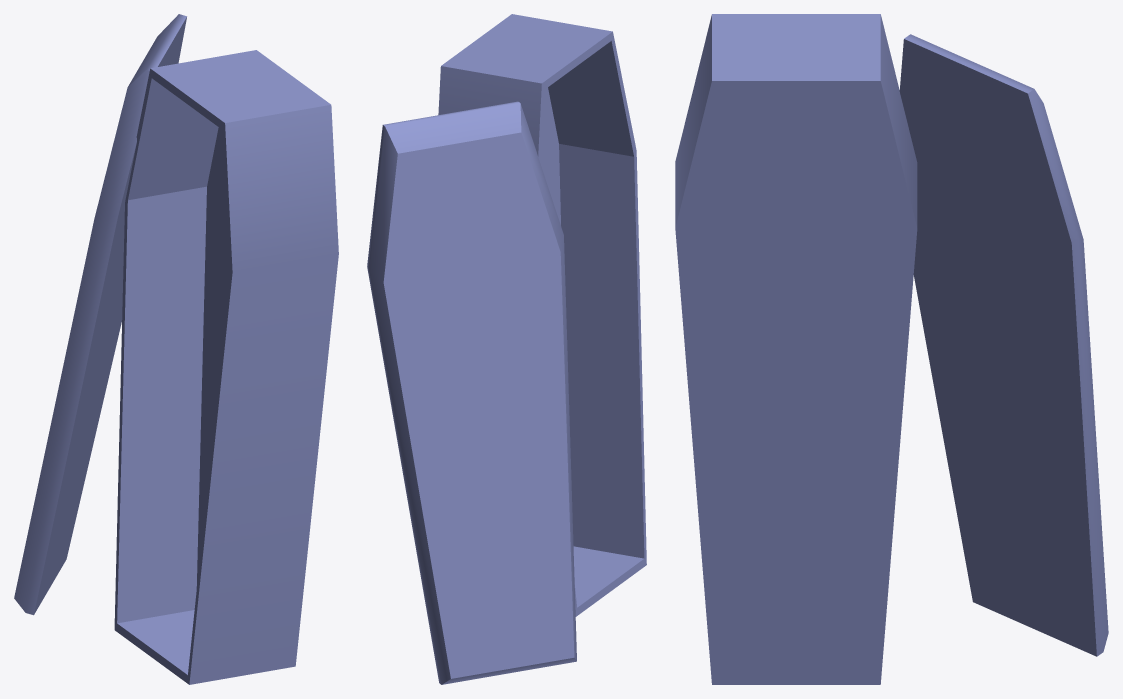
The model's file is Coffin_05A_Lod0.fbx.
3 views of the same model, side by side, from view 1: azimuth 30°, elevation 25°; view 2: azimuth 150°, elevation 25°; view 3: azimuth 270°, elevation 25° (orthographic). The views are drawn at different scales.
Visible parts, largest first — view 1: Coffin_05A_Lod0; view 2: Coffin_05A_Lod0; view 3: Coffin_05A_Lod0.
Part boxes in pixels (x1,y1,x2,y2): Coffin_05A_Lod0: (14,14,338,684); Coffin_05A_Lod0: (367,14,646,684); Coffin_05A_Lod0: (675,14,1108,684).
Bounding box in the file's own units: 61.89 × 174 × 108.
